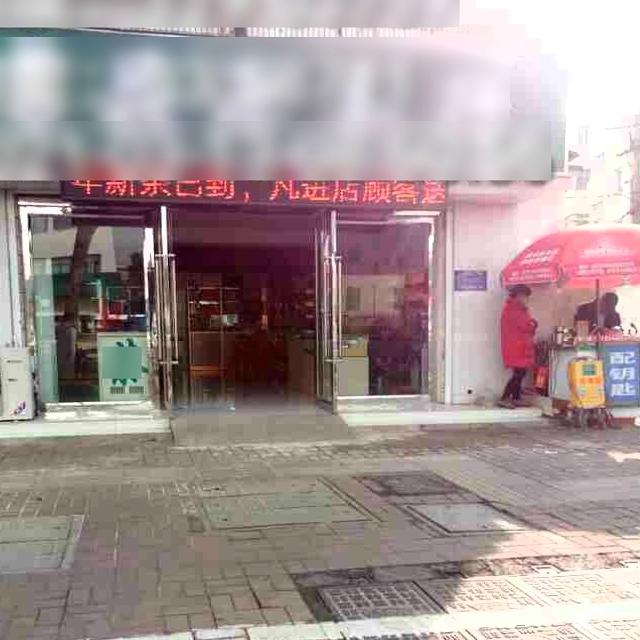good: (294, 558, 640, 640), (184, 472, 386, 530), (0, 514, 83, 576)
